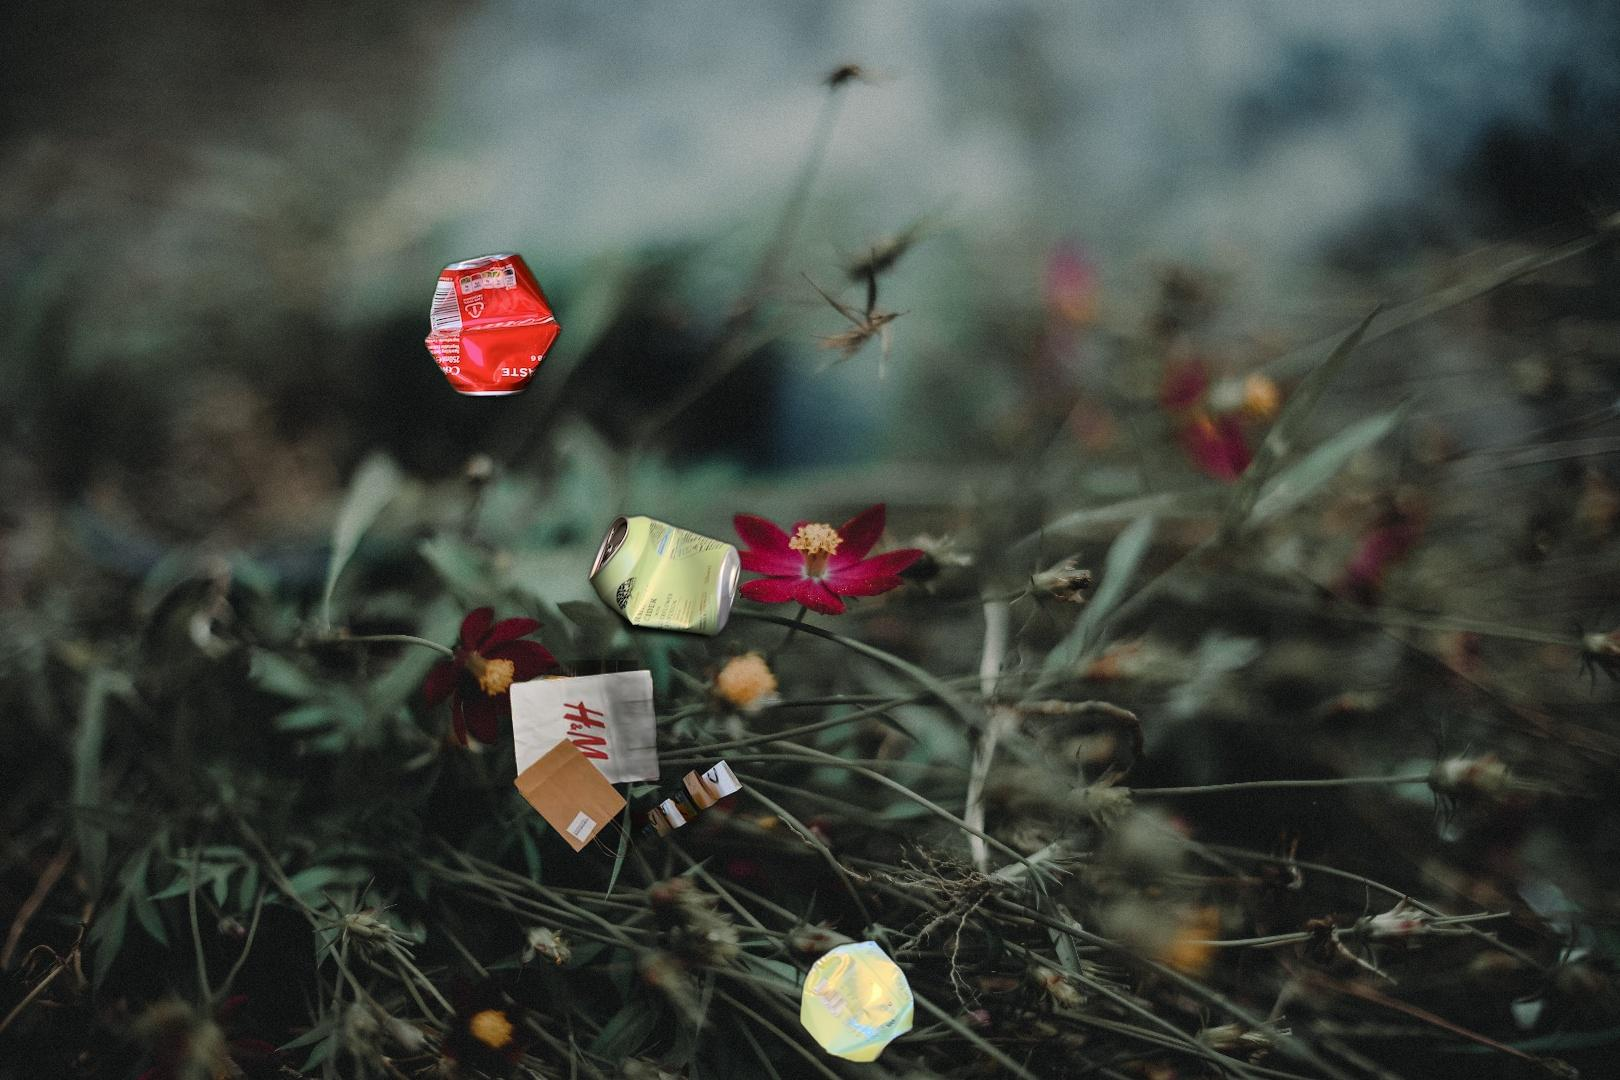metal-cans: (419, 246, 567, 404), (585, 509, 746, 646), (796, 934, 918, 1069)
paper-bag: (491, 661, 746, 910)
